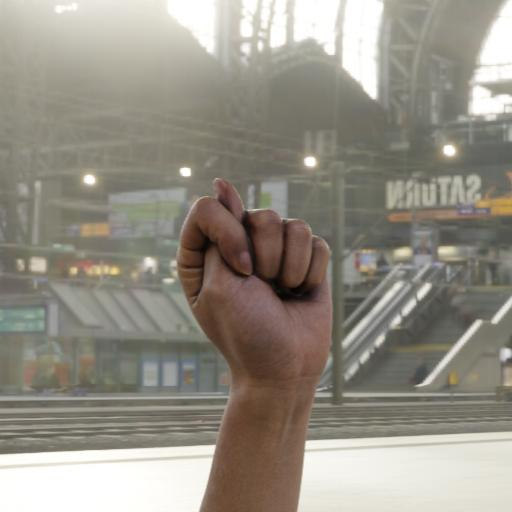T: (158, 160, 343, 391)
